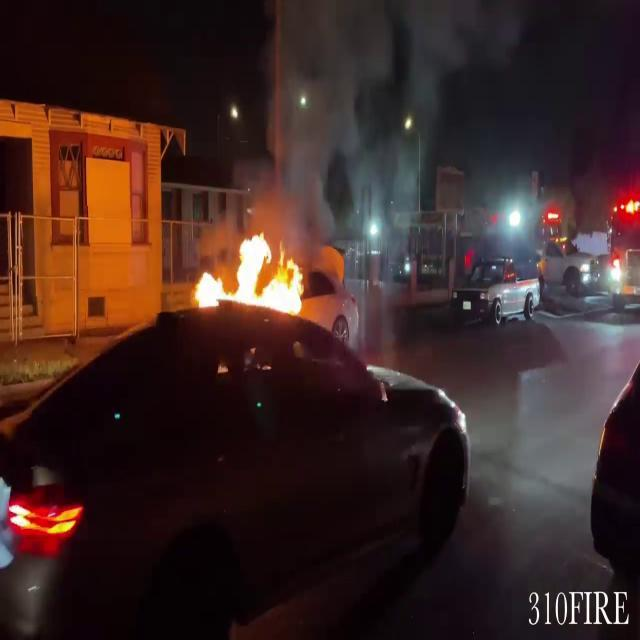Fire: (190, 226, 312, 316)
Smoke: (245, 0, 413, 244)
